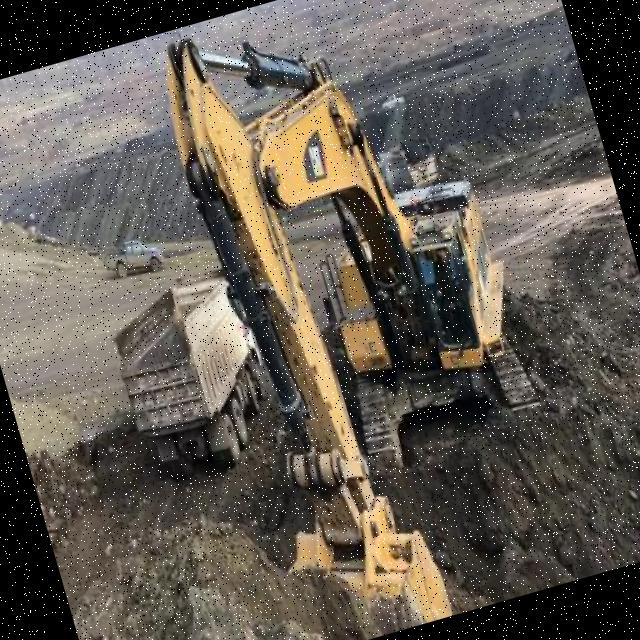Dump Truck: (100, 270, 287, 492)
Excavator: (132, 0, 593, 640)
